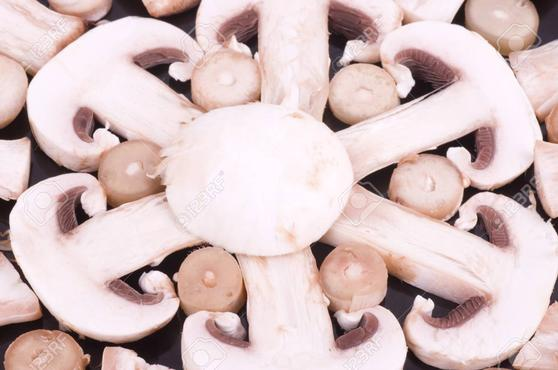champignon: (324, 63, 403, 127)
